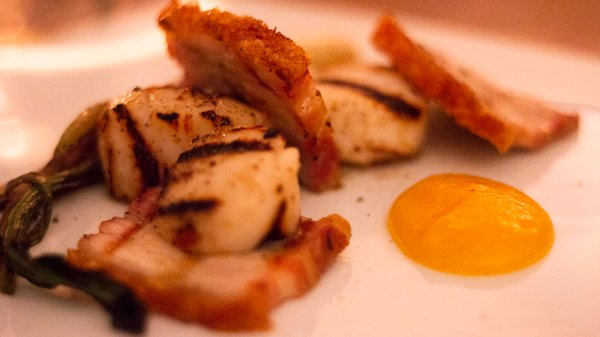soup: (0, 77, 352, 330), (139, 3, 343, 194)
taco: (388, 173, 555, 278)
